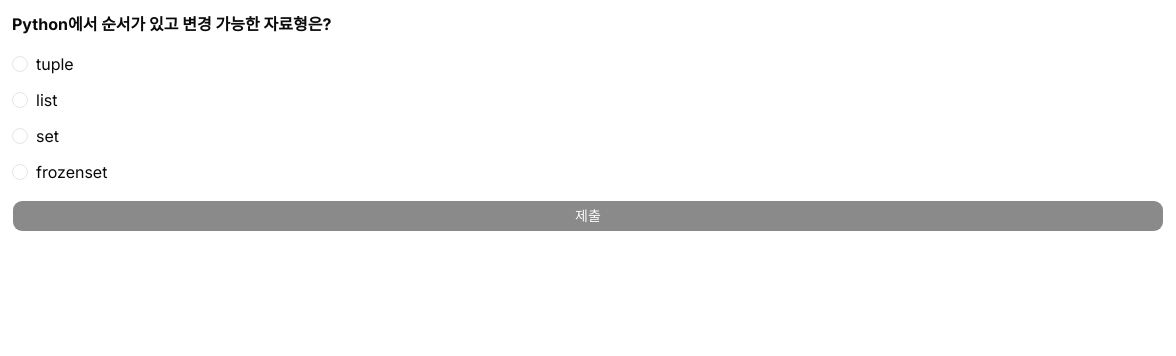
Test: QuestionObjective › [S2-2] 오답 선택 후 제출 → "오답" + 정답 보기 + 해설이 나타난다
Click the 3rd radio button named "set": (20, 136) [12,128,28,144]
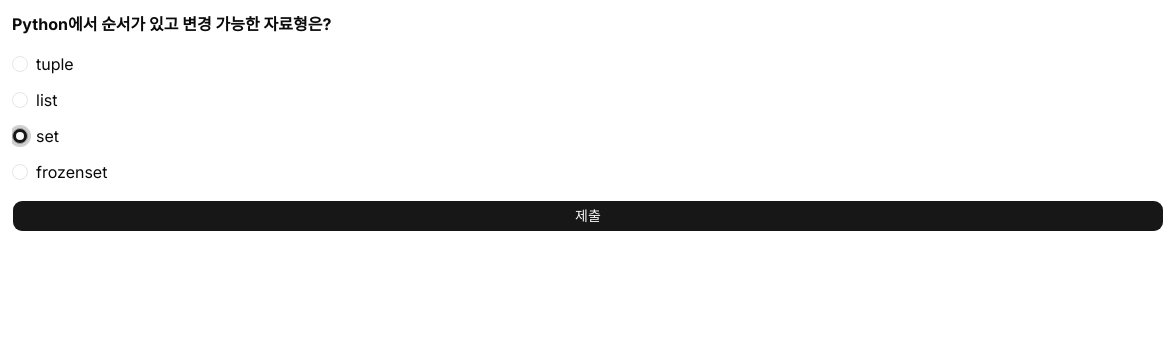
Click the button "제출": (588, 216) [12,200,1164,232]
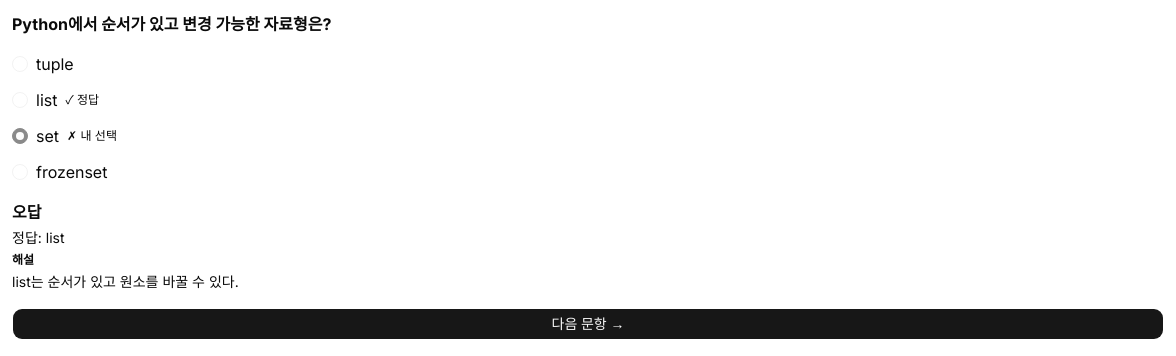
Check: the text "오답" is shown, box [12,202,42,222]
Check: the text "정답: list" is shown, box [12,229,64,246]
Check: the text "해설 list는 순서가 있고 원소를 바꿀 수 있다." is shown, box [12,252,239,290]
